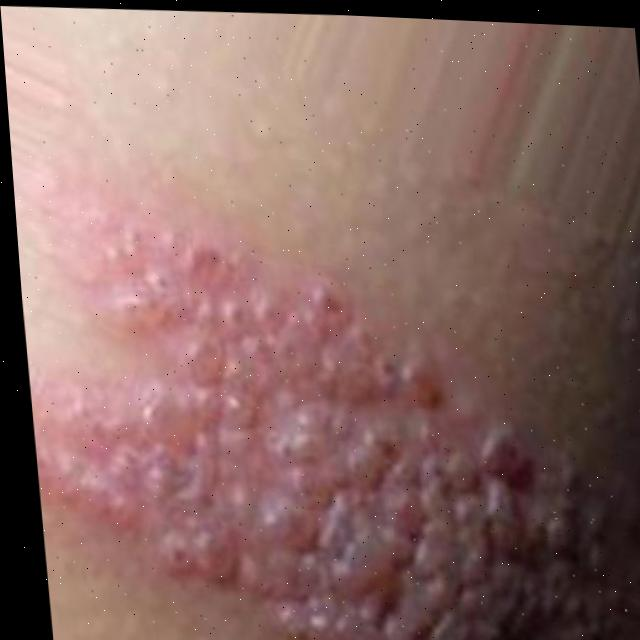Shingles: (17, 197, 629, 640)
